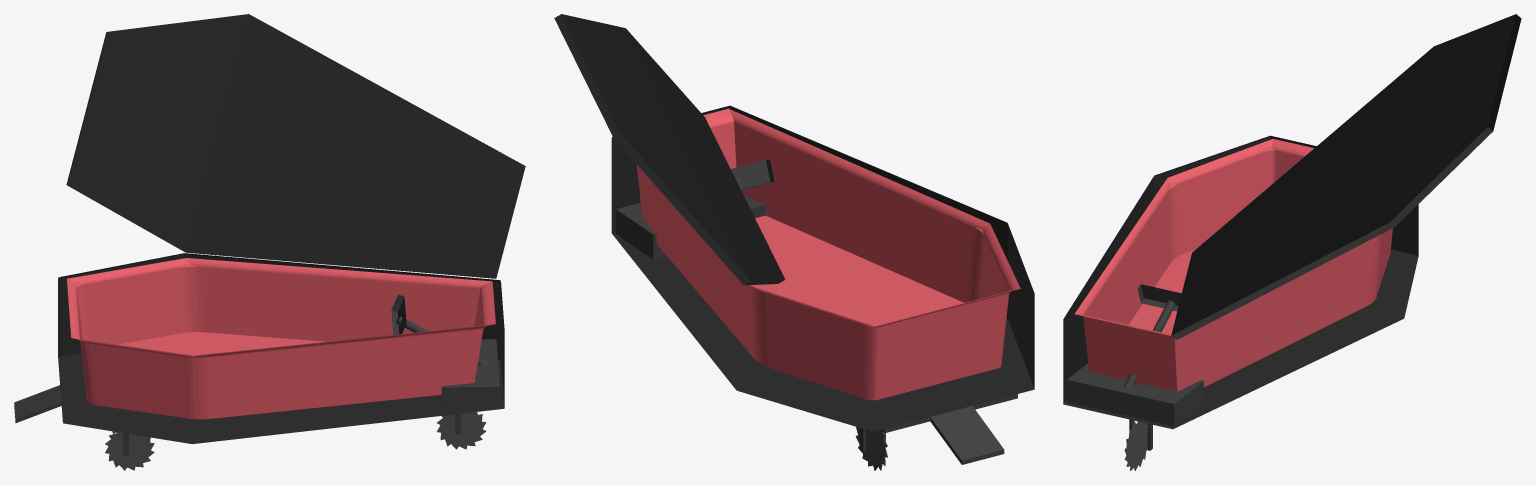
Rendered from coffinsaw.gltf.
3 views of the same model, side by side, from view 1: azimuth 30°, elevation 25°; view 2: azimuth 150°, elevation 25°; view 3: azimuth 270°, elevation 25° (orthographic). The views are drawn at different scales.
Visible parts, largest first — view 1: Cube.038; view 2: Cube.038; view 3: Cube.038.
Part boxes in pixels (box(x1,y1,x2,y2)): Cube.038: box(14, 14, 525, 470); Cube.038: box(554, 14, 1034, 470); Cube.038: box(1063, 14, 1521, 470).
Bounding box in the file's own units: 11.27 × 8.65 × 9.4.
